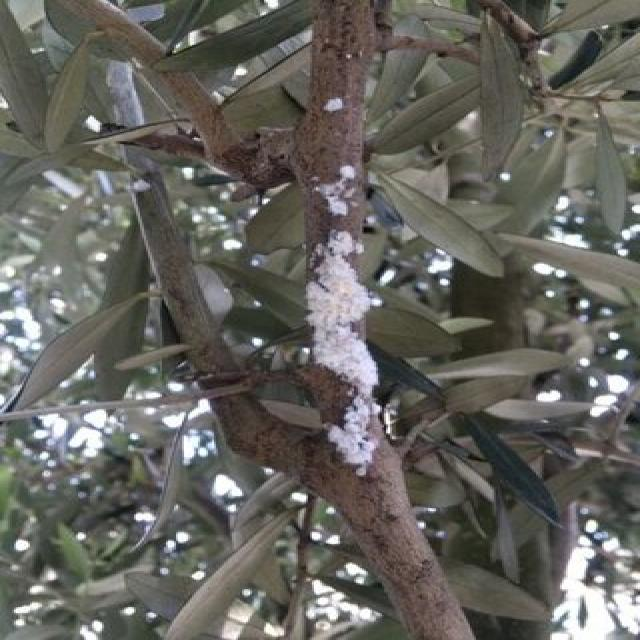Psyllid: (306, 229, 408, 517), (312, 166, 364, 222), (325, 90, 343, 117)
